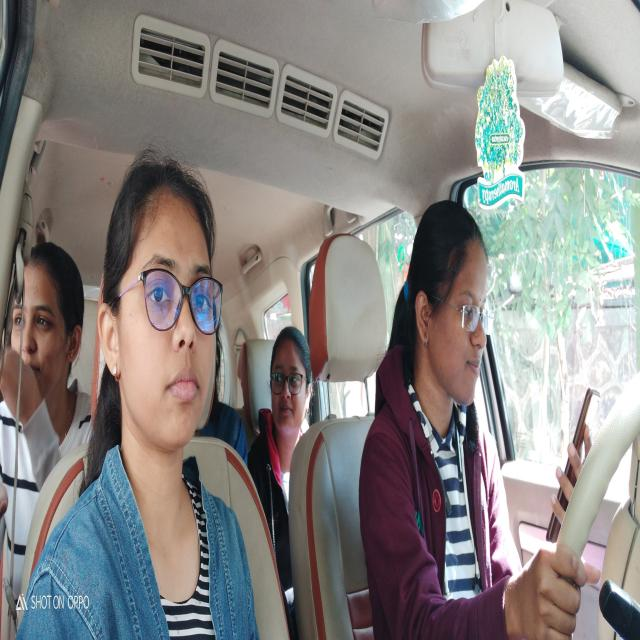mobile: (549, 384, 595, 534)
person: (101, 150, 222, 454), (409, 202, 491, 415), (12, 252, 86, 410), (268, 321, 314, 441)
